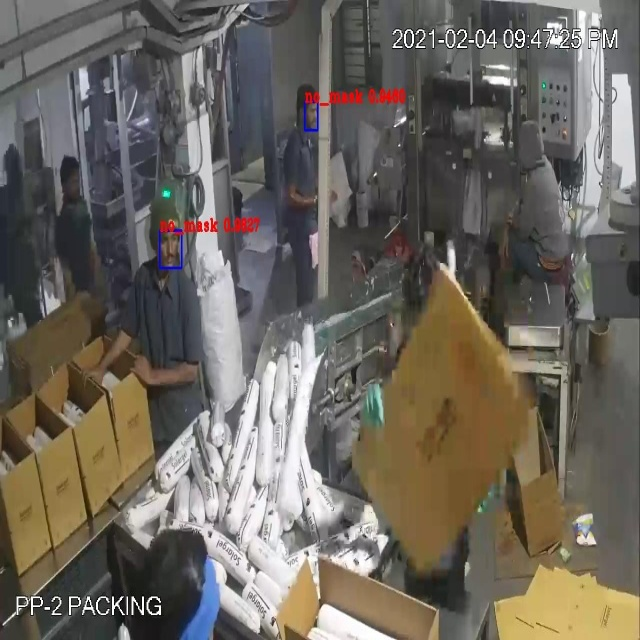Guantes: (360, 380, 392, 436)
Sin_guantes: (120, 340, 202, 399), (71, 322, 130, 390), (80, 237, 112, 304), (490, 211, 518, 268), (282, 184, 322, 217)
